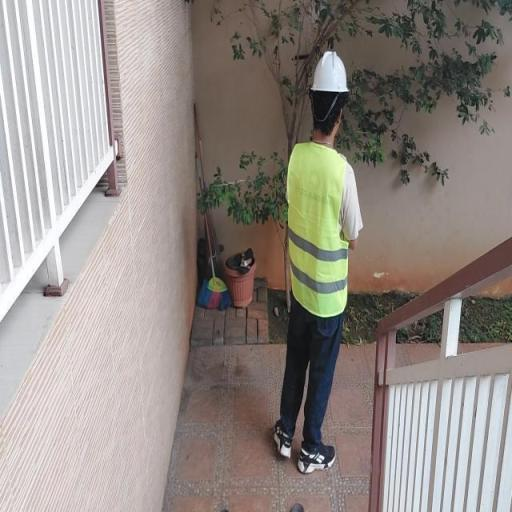Person: (237, 38, 395, 480)
helmet: (306, 40, 356, 97)
vest: (284, 130, 359, 324)
